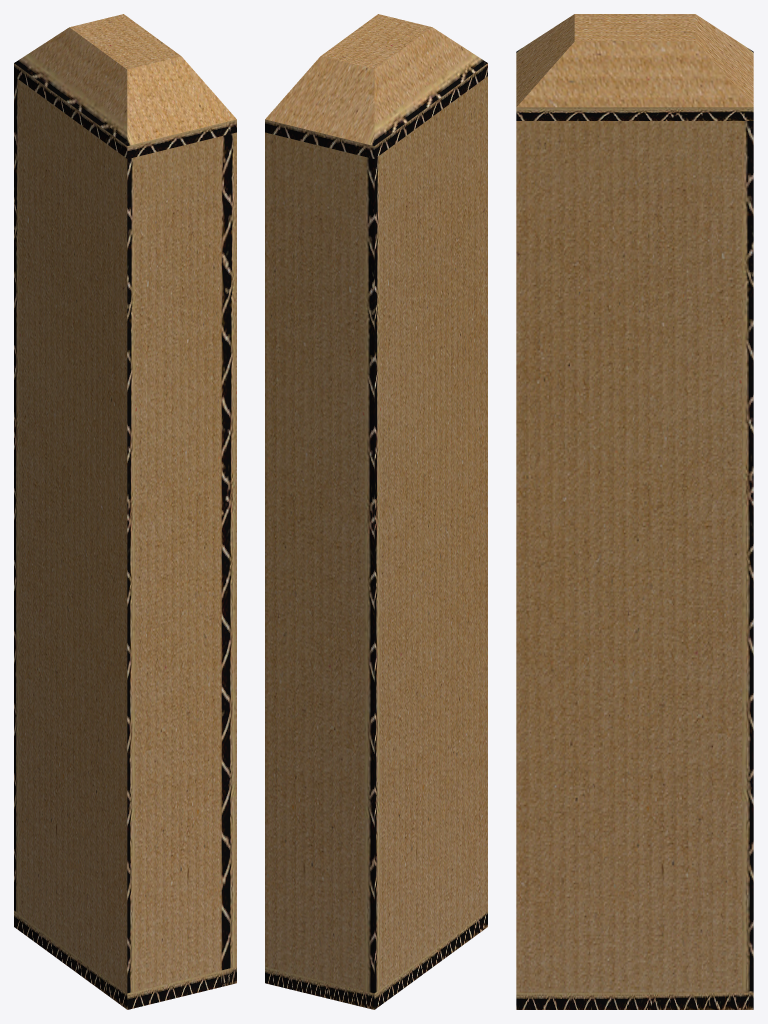
The model's file is Pahvitalo1.FBX.
3 renders of one model, left to right at view 1: azimuth 30°, elevation 25°; view 2: azimuth 150°, elevation 25°; view 3: azimuth 270°, elevation 25°, orthographic. The views are drawn at different scales.
Visible parts, largest first — view 1: Box001; view 2: Box001; view 3: Box001.
Boxes of the visible parts, x1,y1,x2,y2 form: Box001: (14,14,236,1009); Box001: (265,14,487,1009); Box001: (516,14,753,1009).
Bounding box in the file's own units: 19.28 × 154 × 34.6.
Materials: 1 (1 with a texture image).
